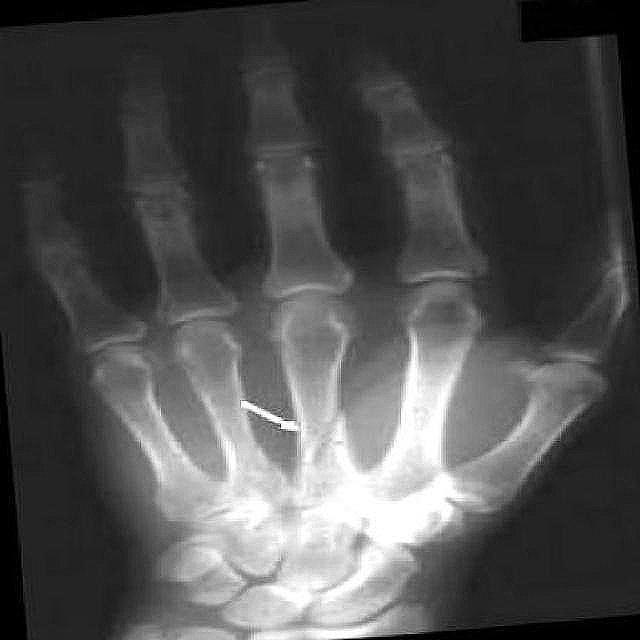bone: (288, 406, 348, 472)
